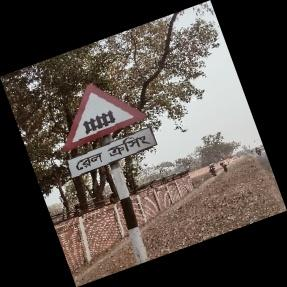Rail-crossing: (61, 83, 156, 181)
